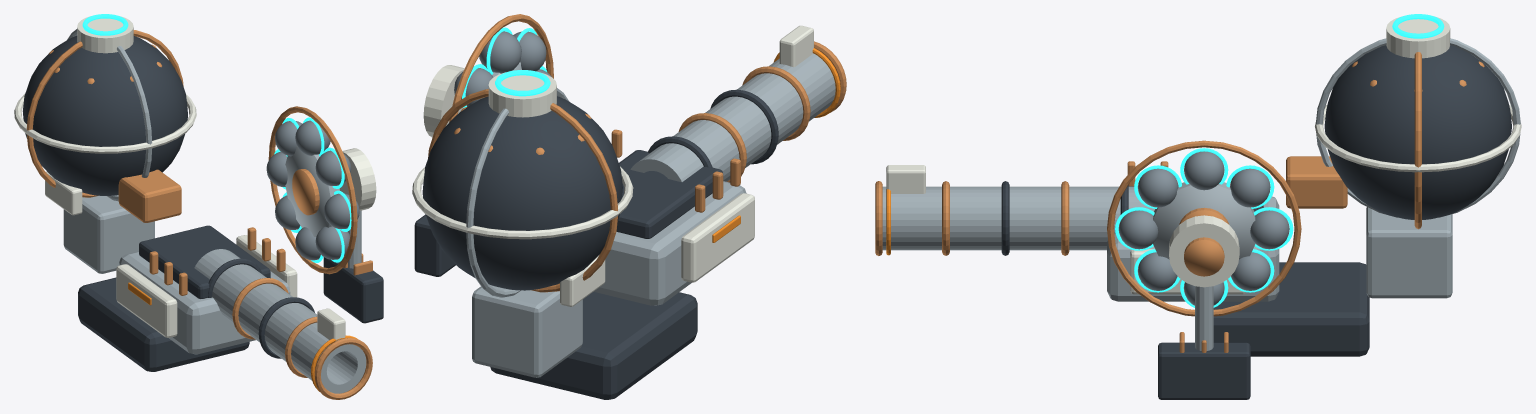
Rendered from M01-017_rapid_ball_thrower.glb.
3 renders of one model, left to right at view 1: azimuth 30°, elevation 25°; view 2: azimuth 150°, elevation 25°; view 3: azimuth 270°, elevation 25°, orthographic. The views are drawn at different scales.
Parts seen in each view (by area): view 1: M01-017_Spherical_hopper, M01-017_Actual_hollow_bore, M01-017_Socket_foot, M01-017_Hopper_pedestal, M01-017_Receiver, M01-017_Receiver_top, M01-017_Bearing_pedestal, M01-017_Feed_neck, M01-017_Side_ceramic_-1, M01-017_Rotor_outer_guard, M01-017_Hopper_equator, M01-017_Rotor_disc (+23 smaller); view 2: M01-017_Spherical_hopper, M01-017_Socket_foot, M01-017_Actual_hollow_bore, M01-017_Hopper_pedestal, M01-017_Receiver, M01-017_Receiver_top, M01-017_Side_ceramic_-1, M01-017_Hopper_equator, M01-017_Hopper_meridian_1, M01-017_Hopper_fill_cap, M01-017_Hopper_meridian_2, M01-017_Bearing_outer (+14 smaller); view 3: M01-017_Spherical_hopper, M01-017_Actual_hollow_bore, M01-017_Socket_foot, M01-017_Hopper_pedestal, M01-017_Bearing_pedestal, M01-017_Rotor_outer_guard, M01-017_Rotor_disc, M01-017_Bearing_outer, M01-017_Feed_neck, M01-017_Hopper_meridian_2, M01-017_Receiver, M01-017_Hopper_equator (+18 smaller).
Part boxes in pixels (x1,y1,x2,y2): M01-017_Spherical_hopper: (22,36,187,195); M01-017_Actual_hollow_bore: (194,249,366,393); M01-017_Socket_foot: (78,277,249,371); M01-017_Hopper_pedestal: (63,195,154,273); M01-017_Receiver: (119,251,290,354); M01-017_Receiver_top: (139,225,270,298); M01-017_Bearing_pedestal: (323,257,383,323); M01-017_Feed_neck: (118,169,181,222); M01-017_Side_ceramic_-1: (116,264,177,337); M01-017_Rotor_outer_guard: (268,106,357,274); M01-017_Hopper_equator: (14,94,196,153); M01-017_Rotor_disc: (285,146,339,236); M01-017_Spherical_hopper: (422,96,622,290); M01-017_Socket_foot: (490,291,697,399); M01-017_Actual_hollow_bore: (630,53,835,182); M01-017_Hopper_pedestal: (472,285,582,377); M01-017_Receiver: (594,181,746,305); M01-017_Receiver_top: (616,150,722,238); M01-017_Side_ceramic_-1: (681,193,754,282); M01-017_Hopper_equator: (412,166,633,239); M01-017_Hopper_meridian_1: (428,89,617,292); M01-017_Hopper_fill_cap: (488,72,556,117); M01-017_Hopper_meridian_2: (466,88,569,297); M01-017_Bearing_outer: (423,65,464,137); M01-017_Spherical_hopper: (1324,45,1511,219); M01-017_Actual_hollow_bore: (882,186,1154,250); M01-017_Socket_foot: (1213,262,1369,356); M01-017_Hopper_pedestal: (1366,207,1452,298); M01-017_Bearing_pedestal: (1158,342,1250,399); M01-017_Rotor_outer_guard: (1107,140,1301,316); M01-017_Rotor_disc: (1153,182,1255,259); M01-017_Bearing_outer: (1169,215,1239,287); M01-017_Feed_neck: (1286,156,1347,208); M01-017_Hopper_meridian_2: (1315,38,1520,217); M01-017_Receiver: (1107,196,1279,301); M01-017_Hopper_equator: (1315,104,1521,172).
Bounding box in the file's own units: 1.45 × 1.56 × 2.93.
